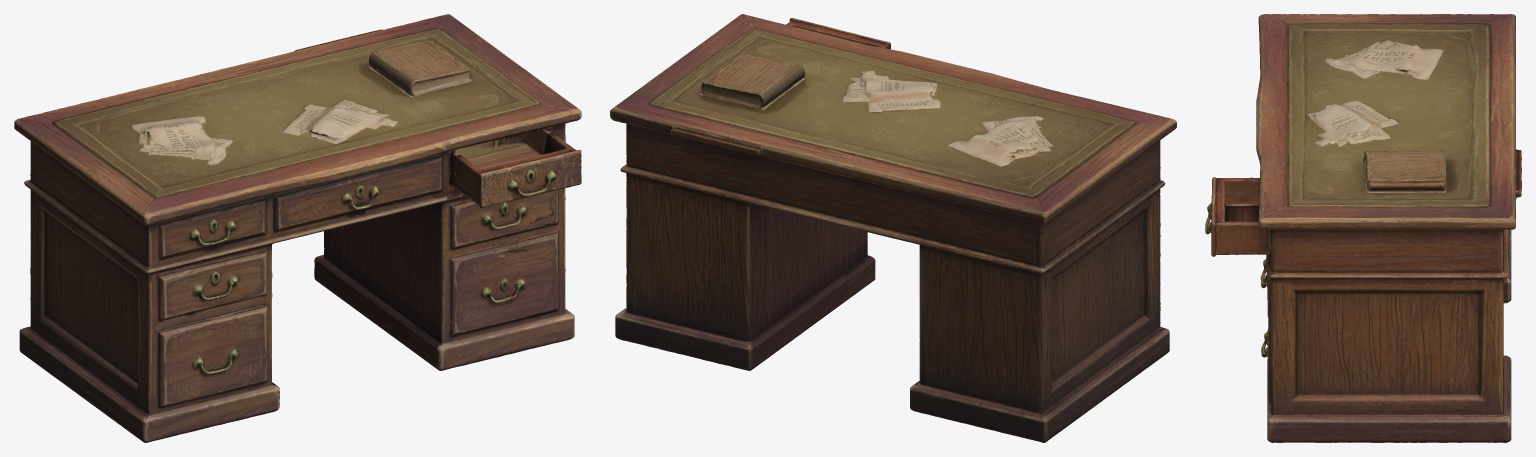
The model's file is Furn_Desk.fbx.
3 views of the same model, side by side, from view 1: azimuth 30°, elevation 25°; view 2: azimuth 150°, elevation 25°; view 3: azimuth 270°, elevation 25° (orthographic). The views are drawn at different scales.
Visible parts, largest first — view 1: texture_mapping; view 2: texture_mapping; view 3: texture_mapping.
Boxes of the visible parts, left/top/right/bottom form: texture_mapping: left=14, top=14, right=581, bottom=442; texture_mapping: left=610, top=14, right=1176, bottom=442; texture_mapping: left=1205, top=14, right=1521, bottom=442.
Bounding box in the file's own units: 1 × 0.6464 × 0.5434.
1 material, 1 textured.
